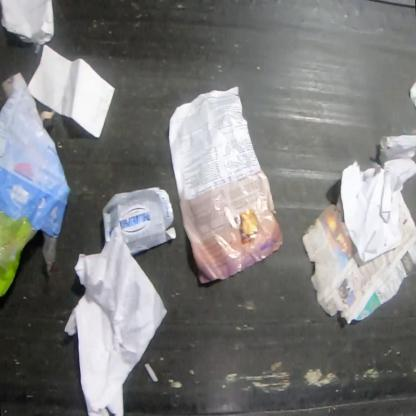cardboard: (103, 186, 177, 255)
soft_plastic: (0, 70, 72, 282)
